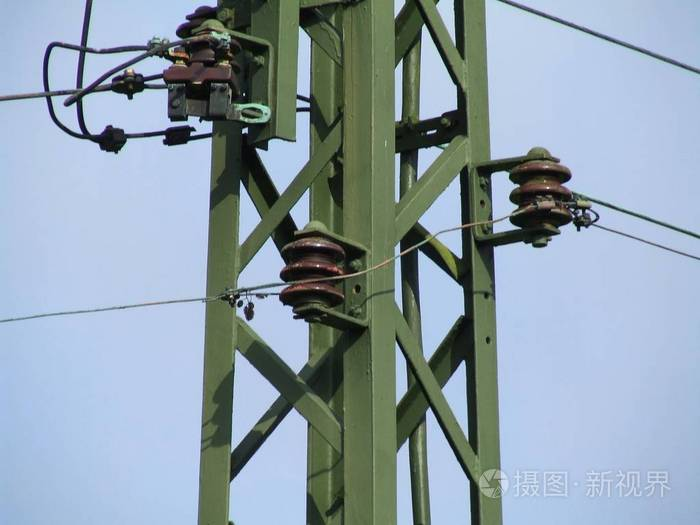insulator: (280, 238, 349, 307), (506, 161, 577, 228)
